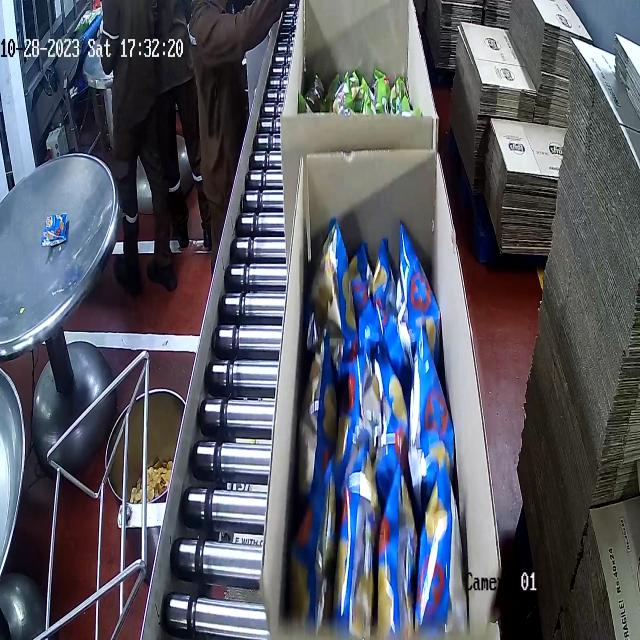PAPRIKA: (306, 234, 459, 616)
